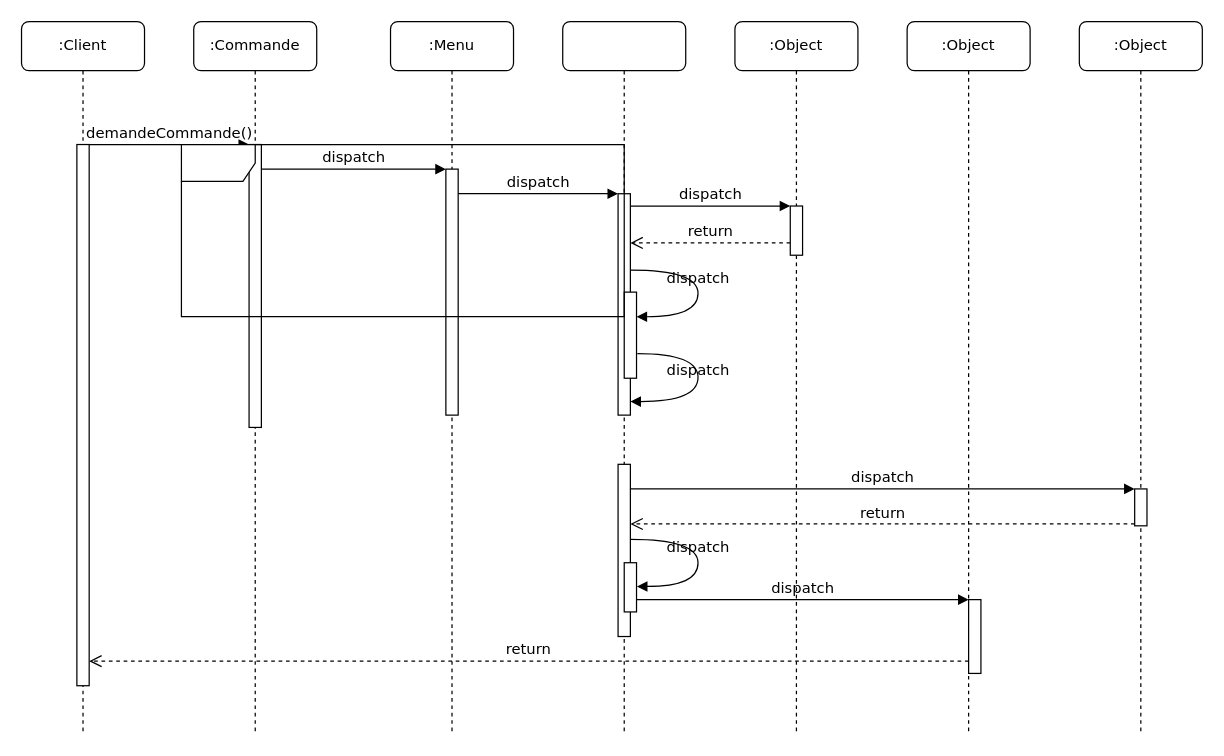
The diagram is 1224 pixels wide and 756 high, and some of its shapes have lost their labels. The shapes that lost their labels are listed below. From the top down, each one's centre as x and y in pixels, then its label:
At point (402, 230): "OPT".
At point (623, 377): ":Date".
